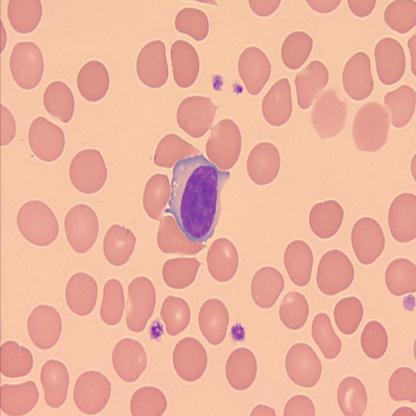Atypical lymphocyte: (166, 156, 232, 246)
